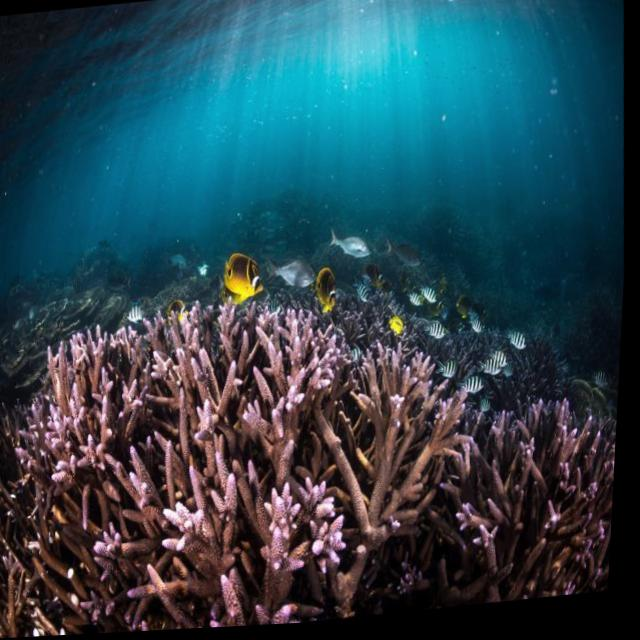Healthy Coral: (0, 259, 628, 640)
